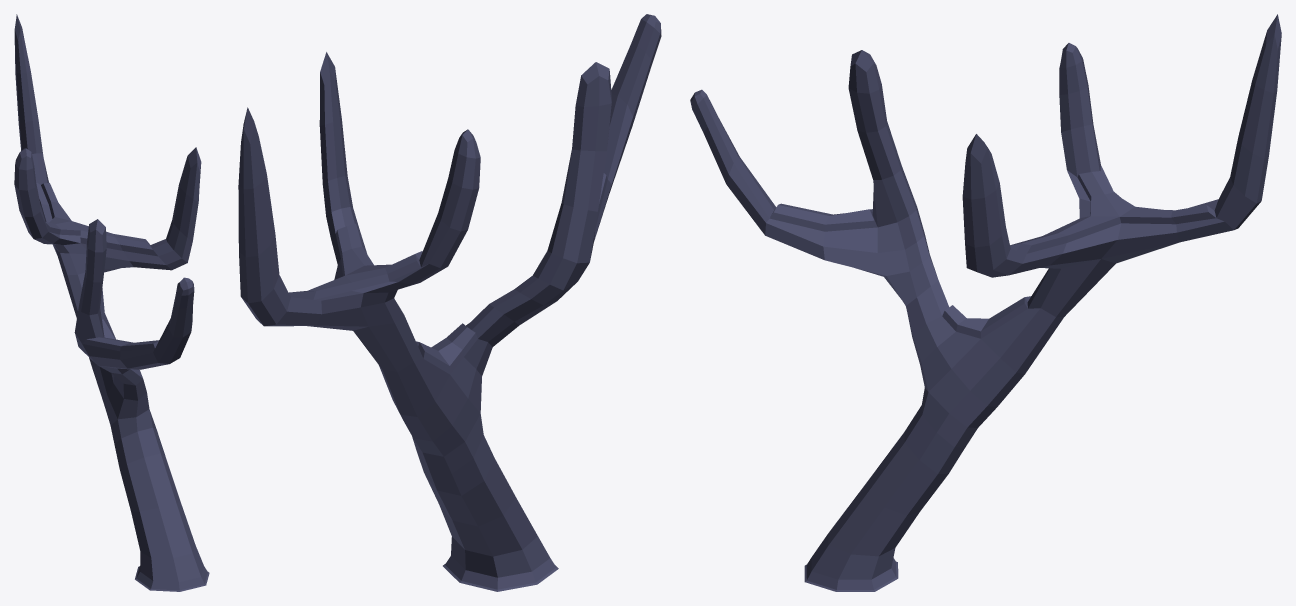
The model's file is Dead_tree_3.fbx.
3 renders of one model, left to right at view 1: azimuth 30°, elevation 25°; view 2: azimuth 150°, elevation 25°; view 3: azimuth 270°, elevation 25°, orthographic. The views are drawn at different scales.
Parts seen in each view (by area): view 1: Dead_tree_3; view 2: Dead_tree_3; view 3: Dead_tree_3.
Part boxes in pixels (box(x1,y1,x2,y2)): Dead_tree_3: box(14, 14, 209, 591); Dead_tree_3: box(238, 14, 661, 591); Dead_tree_3: box(690, 14, 1281, 591).
Bounding box in the file's own units: 6.71 × 17.99 × 17.09.
